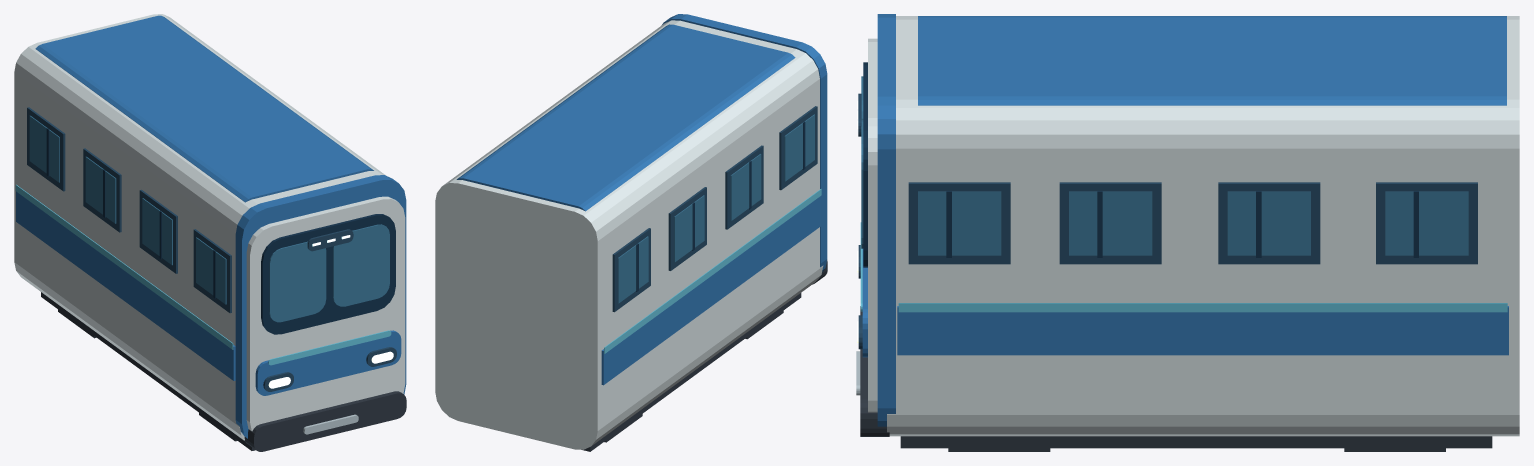
Rendered from train.glb.
3 views of the same model, side by side, from view 1: azimuth 30°, elevation 25°; view 2: azimuth 150°, elevation 25°; view 3: azimuth 270°, elevation 25° (orthographic). The views are drawn at different scales.
Parts seen in each view (by area): view 1: train_Silver, train_TrainBlue, train_Reflect, train_Rubber, train_Window, train_Navy, train_TrainAqua, train_RailFace; view 2: train_Silver, train_TrainBlue, train_Reflect, train_Navy, train_TrainAqua, train_Rubber, train_Window; view 3: train_Silver, train_TrainBlue, train_Reflect, train_Navy, train_Rubber, train_TrainAqua, train_Window.
Part boxes in pixels (x1=…): train_Silver: x1=14, y1=14, x2=405, y2=440; train_TrainBlue: x1=16, y1=15, x2=406, y2=438; train_Reflect: x1=29, y1=115, x2=389, y2=322; train_Rubber: x1=41, y1=292, x2=406, y2=451; train_Window: x1=46, y1=128, x2=395, y2=334; train_Navy: x1=27, y1=107, x2=396, y2=391; train_TrainAqua: x1=15, y1=184, x2=391, y2=365; train_RailFace: x1=303, y1=414, x2=358, y2=434; train_Silver: x1=435, y1=20, x2=823, y2=449; train_TrainBlue: x1=456, y1=14, x2=827, y2=385; train_Reflect: x1=618, y1=114, x2=814, y2=303; train_Navy: x1=612, y1=106, x2=817, y2=312; train_TrainAqua: x1=604, y1=189, x2=821, y2=353; train_Rubber: x1=581, y1=260, x2=827, y2=451; train_Window: x1=636, y1=121, x2=805, y2=291; train_Silver: x1=868, y1=16, x2=1519, y2=436; train_TrainBlue: x1=862, y1=14, x2=1508, y2=426; train_Reflect: x1=861, y1=76, x2=1468, y2=255; train_Navy: x1=858, y1=93, x2=1477, y2=349; train_Rubber: x1=860, y1=306, x2=1492, y2=451; train_TrainAqua: x1=860, y1=222, x2=1507, y2=312; train_Window: x1=863, y1=62, x2=1418, y2=267.
Size of the model in its own units: 2.07 by 2.93 by 5.01.
